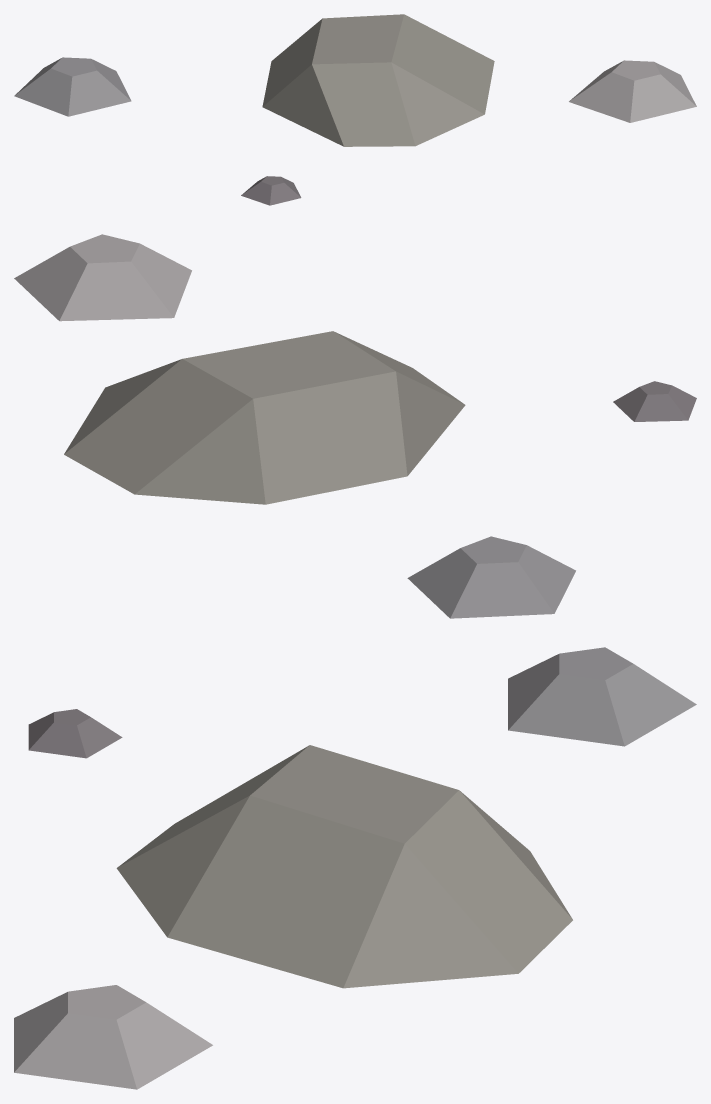
File: Rocks_Round_s_05.fbx
3 renders of one model, top to bottom at view 1: azimuth 30°, elevation 25°; view 2: azimuth 150°, elevation 25°; view 3: azimuth 270°, elevation 25°, orthographic. The views are drawn at different scales.
Visible parts, largest first — view 1: Rocks_Round_s_05; view 2: Rocks_Round_s_05; view 3: Rocks_Round_s_05.
Boxes of the visible parts, box(x1,y1,x2,y2) form: Rocks_Round_s_05: box(14, 14, 696, 205); Rocks_Round_s_05: box(14, 234, 696, 618); Rocks_Round_s_05: box(14, 647, 696, 1089).
Bounding box in the file's own units: 48.72 × 4.79 × 32.9.
